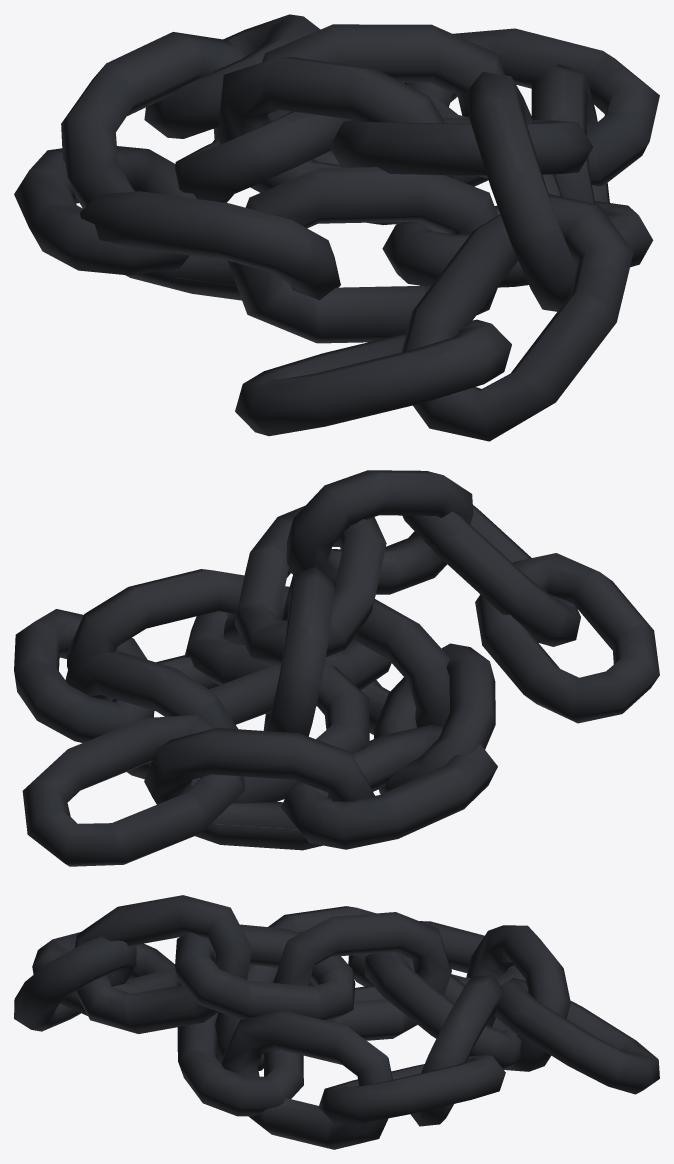
File: SM_PROP_chain_dungeon_04.fbx
3 views of the same model, one above another, from view 1: azimuth 30°, elevation 25°; view 2: azimuth 150°, elevation 25°; view 3: azimuth 270°, elevation 25° (orthographic). The views are drawn at different scales.
Parts seen in each view (by area): view 1: SM_PROP_chain_dungeon_04; view 2: SM_PROP_chain_dungeon_04; view 3: SM_PROP_chain_dungeon_04.
Boxes of the visible parts, box(x1,y1,x2,y2) form: SM_PROP_chain_dungeon_04: box(14, 14, 659, 441); SM_PROP_chain_dungeon_04: box(14, 470, 659, 866); SM_PROP_chain_dungeon_04: box(14, 895, 659, 1149).
Size of the model in its own units: 97.14 by 42.77 by 133.
